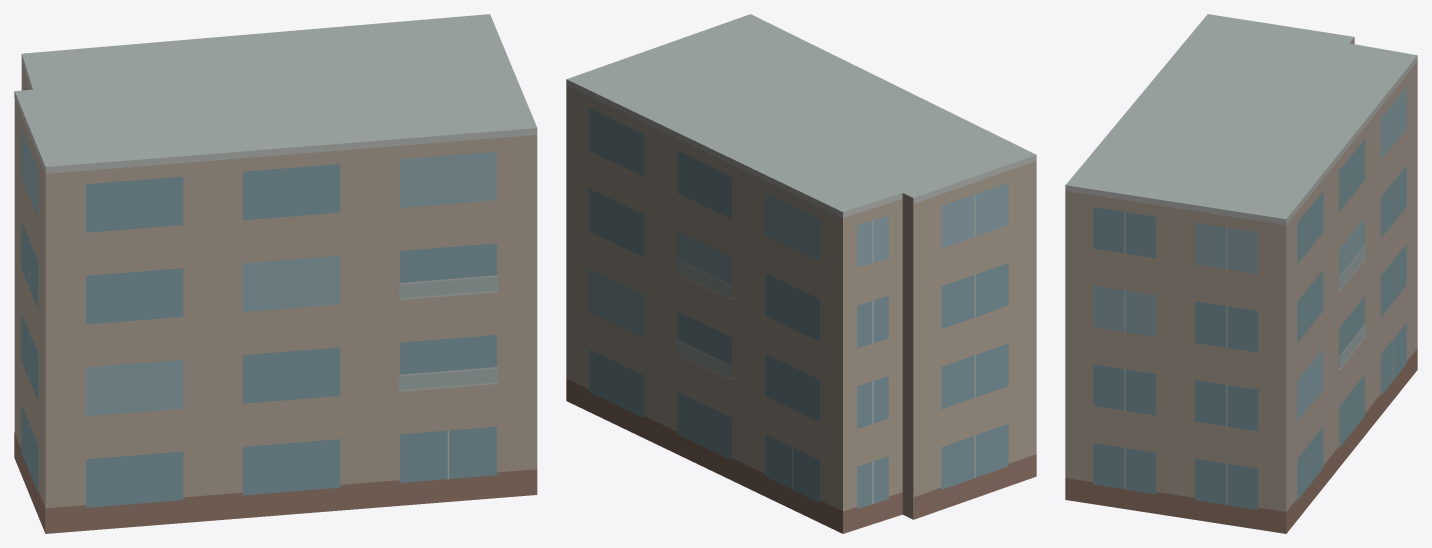
The model's file is survey-upis-32752336.glb.
3 renders of one model, left to right at view 1: azimuth 30°, elevation 25°; view 2: azimuth 150°, elevation 25°; view 3: azimuth 270°, elevation 25°, orthographic. The views are drawn at different scales.
Parts seen in each view (by area): view 1: survey-upis-32752336.tmp; view 2: survey-upis-32752336.tmp; view 3: survey-upis-32752336.tmp.
Boxes of the visible parts, x1,y1,x2,y2 form: survey-upis-32752336.tmp: (14,14,537,533); survey-upis-32752336.tmp: (566,14,1036,533); survey-upis-32752336.tmp: (1065,14,1417,533).
Bounding box in the file's own units: 18.47 × 13.2 × 13.4.
